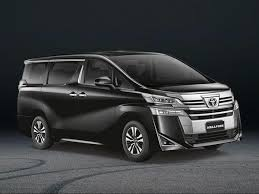Toyota: (22, 54, 239, 151)
